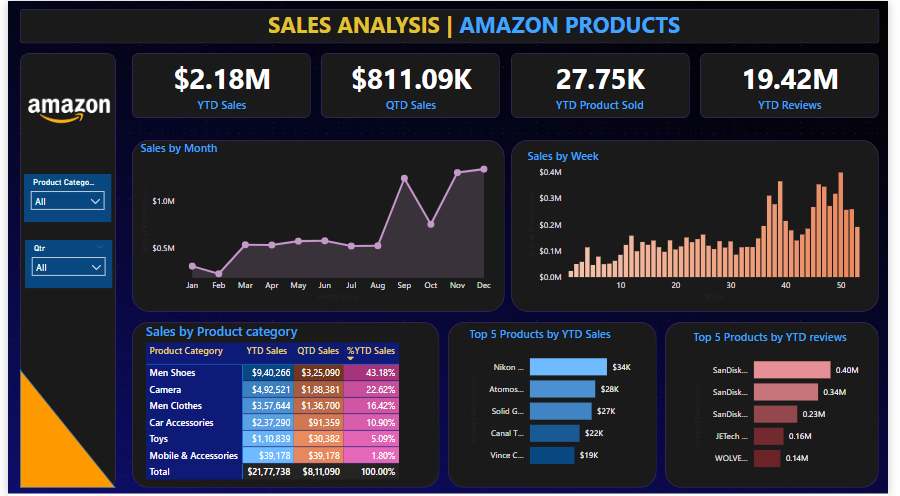

The dashboard page shown, as its layout file describes it:
{"tool":"powerbi","page":{"name":"Page 1","canvas":[1280,720],"ordinal":0},"visuals":[{"type":"shape","box":[180.4,75.6,260.4,94.5],"z":0,"group":"g1"},{"type":"shape","box":[17.5,11.6,1250,50],"z":0},{"type":"card","fields":{"Values":["Amazon_Data.YTD Sales"]},"box":[200.8,75.6,221.1,94.5],"z":1000,"group":"g1"},{"type":"textbox","box":[378.2,11.6,637.1,49.5],"z":1000},{"type":"shape","box":[455.8,75.6,260.4,94.5],"z":2000,"group":"g1"},{"type":"shape","box":[17.5,75.6,139.6,632.7],"z":2000},{"type":"shape","box":[731.2,75.6,260.4,94.5],"z":3000,"group":"g1"},{"type":"shape","box":[180.4,202.2,542,250],"z":3000},{"type":"shape","box":[1006.6,75.6,260.4,94.5],"z":4000,"group":"g1"},{"type":"group","id":"g1","title":"Group 1","box":[180.4,75.6,1086.5,94.5],"z":4000},{"type":"card","fields":{"Values":["Amazon_Data.QTD Sales"]},"box":[475.7,75.6,221.1,94.5],"z":5000,"group":"g1"},{"type":"areaChart","title":"Sales by Month","fields":{"Category":["Date table.Month Name"],"Y":["Sum(Amazon_Data.Price(Dollar))"]},"box":[187.6,202.2,525.1,238.5],"z":5000},{"type":"card","fields":{"Values":["Amazon_Data.YTD Product Sold"]},"box":[750.6,75.6,221.1,94.5],"z":6000,"group":"g1"},{"type":"shape","box":[731.6,202.2,535.3,250.2],"z":6000},{"type":"card","fields":{"Values":["Amazon_Data.YTD Reviews"]},"box":[1026.9,75.6,221.1,94.5],"z":7000,"group":"g1"},{"type":"columnChart","title":"Sales by Week","fields":{"Category":["Date table.Week"],"Y":["Sum(Amazon_Data.Price(Dollar))"]},"box":[750.5,213.8,497.5,226.9],"z":7000},{"type":"shape","box":[640,466.9,304,241.5],"z":8000},{"type":"shape","box":[180.4,466.9,448,241.5],"z":9000},{"type":"pivotTable","title":"Sales by Product category","fields":{"Rows":["Amazon_Data.Product Category"],"Values":["Amazon_Data.YTD Sales1","Amazon_Data.QTD Sales","Amazon_Data.YTD Sales"]},"box":[200.7,466.9,442.2,231.3],"z":10000},{"type":"shape","box":[955.6,466.9,311.3,241.5],"z":11000},{"type":"clusteredBarChart","title":"Top 5 Products by YTD Sales ","fields":{"Category":["Amazon_Data.Product Description"],"Y":["Amazon_Data.YTD Sales"]},"box":[666.2,472.7,253.1,219.6],"z":12000},{"type":"clusteredBarChart","title":"Top 5 Products by YTD reviews","fields":{"Category":["Amazon_Data.Product Description"],"Y":["Amazon_Data.YTD Reviews"]},"box":[992,477.1,253.1,219.6],"z":13000},{"type":"slicer","fields":{"Values":["Amazon_Data.Product Category"]},"box":[23.3,251.6,126.5,69.8],"z":14000},{"type":"slicer","fields":{"Values":["Date table.Qtr"]},"box":[24.7,347.6,126.5,69.8],"z":15000},{"type":"image","box":[20.4,91.6,136.7,136.7],"z":16000},{"type":"shape","box":[17.5,535.3,139.6,173.1],"z":17000}]}

Visuals, with their boxes in screenshot pixels (x1, y1, x2, y2), scaled from the page's 1280x720 canvas onto the 900x496 screenshot:
shape: 127, 52, 310, 117
shape: 12, 8, 891, 42
card - Amazon_Data.YTD Sales: 141, 52, 297, 117
textbox: 266, 8, 714, 42
shape: 320, 52, 504, 117
shape: 12, 52, 110, 488
shape: 514, 52, 697, 117
shape: 127, 139, 508, 312
shape: 708, 52, 891, 117
"Group 1" group: 127, 52, 891, 117
card - Amazon_Data.QTD Sales: 334, 52, 490, 117
"Sales by Month" areaChart: 132, 139, 501, 304
card - Amazon_Data.YTD Product Sold: 528, 52, 683, 117
shape: 514, 139, 891, 312
card - Amazon_Data.YTD Reviews: 722, 52, 878, 117
"Sales by Week" columnChart: 528, 147, 878, 304
shape: 450, 322, 664, 488
shape: 127, 322, 442, 488
"Sales by Product category" pivotTable: 141, 322, 452, 481
shape: 672, 322, 891, 488
"Top 5 Products by YTD Sales " clusteredBarChart: 468, 326, 646, 477
"Top 5 Products by YTD reviews" clusteredBarChart: 698, 329, 875, 480
slicer - Amazon_Data.Product Category: 16, 173, 105, 221
slicer - Date table.Qtr: 17, 239, 106, 288
image: 14, 63, 110, 157
shape: 12, 369, 110, 488
